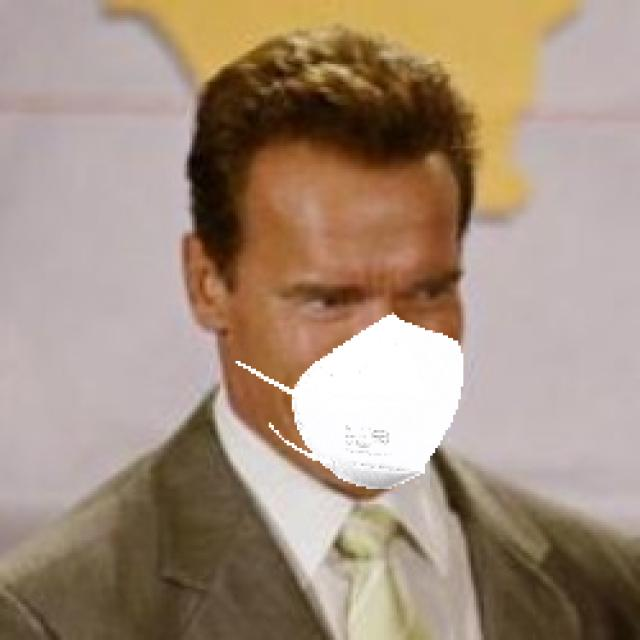mask: (209, 289, 528, 529)
